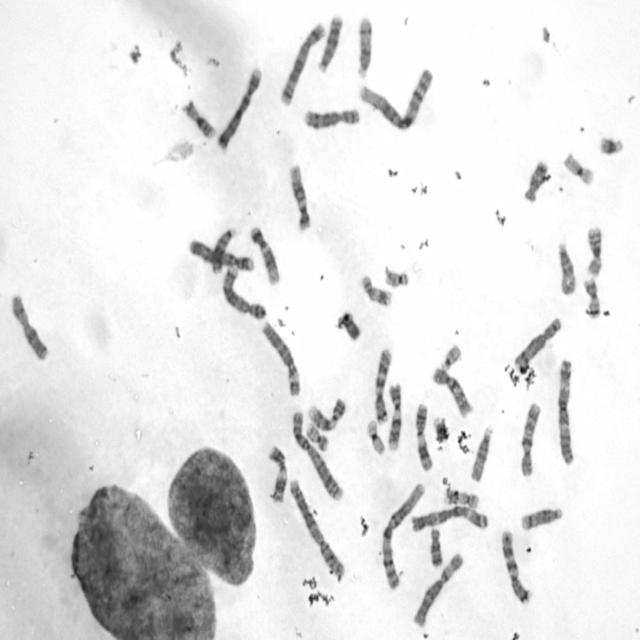A1: (356, 65, 436, 132), (379, 479, 426, 593)
A2: (287, 475, 346, 578), (290, 406, 344, 503)
A3: (407, 502, 490, 534), (554, 355, 576, 466)
B4: (214, 64, 264, 152), (185, 236, 256, 274)
B5: (277, 19, 327, 108), (220, 263, 268, 321)
C10: (429, 362, 474, 419), (518, 398, 542, 479)
C11: (413, 399, 434, 473), (265, 442, 289, 505)
C12: (248, 222, 280, 287), (286, 160, 312, 234)
C6: (411, 549, 465, 628), (260, 319, 302, 398)
C7: (499, 526, 532, 606), (372, 345, 393, 426)
C8: (513, 314, 562, 371), (301, 104, 361, 130)
C9: (305, 393, 347, 432), (386, 380, 404, 453)
D13: (315, 11, 344, 73), (209, 224, 241, 276)
D14: (518, 503, 564, 532), (354, 14, 374, 80)
D15: (468, 423, 494, 482), (554, 238, 578, 296)
E16: (179, 96, 217, 141), (583, 222, 605, 278)
E17: (359, 271, 394, 309), (442, 486, 481, 509)
E18: (520, 156, 550, 204), (426, 524, 444, 568)
F19: (560, 150, 597, 188), (364, 416, 386, 456)
F20: (581, 274, 602, 320), (305, 420, 330, 453)
G21: (597, 132, 625, 158)
G22: (438, 341, 462, 371), (382, 263, 409, 288)
X: (8, 290, 49, 363)
Y: (335, 308, 362, 343)
